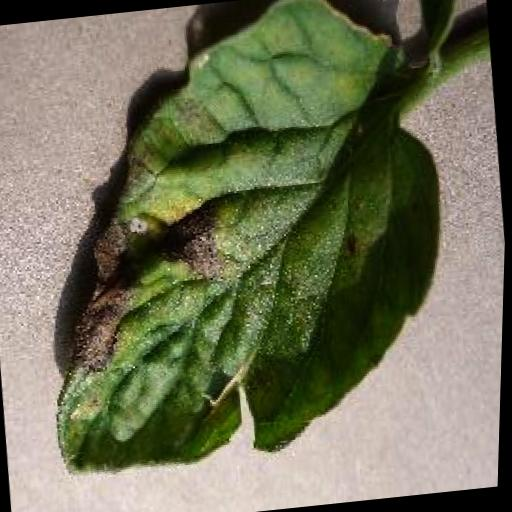Late Blight: (10, 0, 473, 483)
